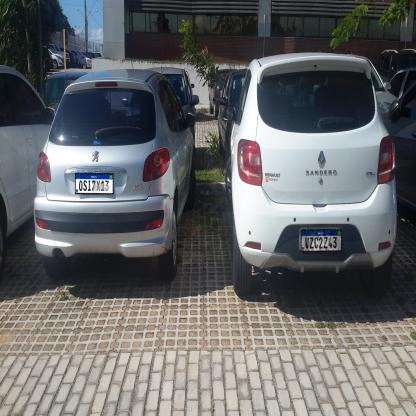PlacaM: (301, 229, 342, 252), (75, 173, 113, 195)
